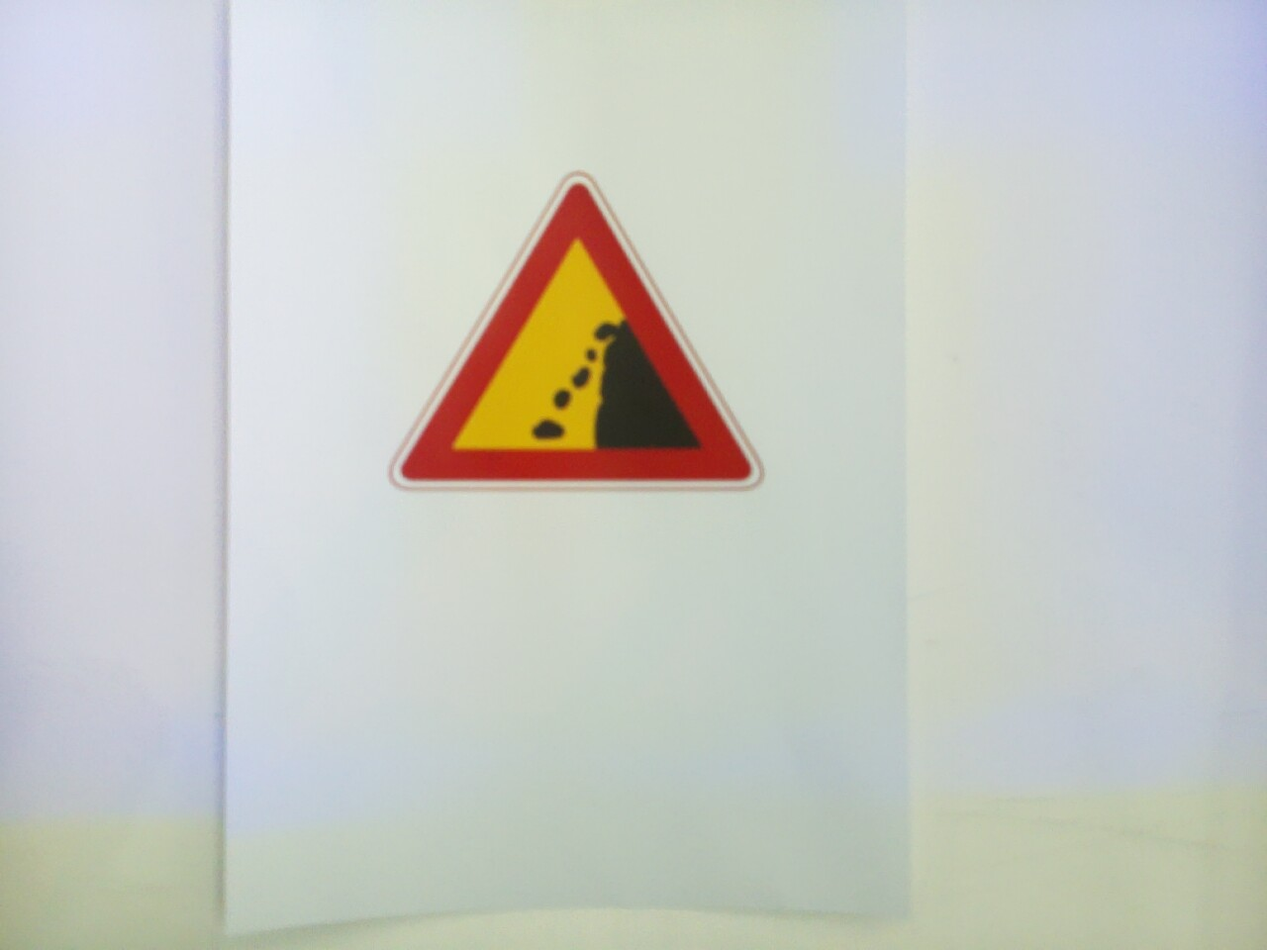falling_rocks: (390, 173, 762, 491)
